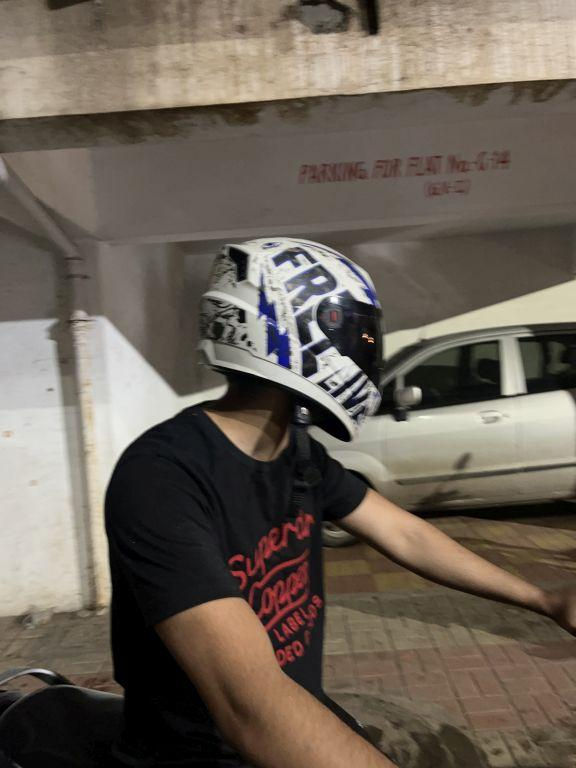helmet: (182, 214, 393, 457)
